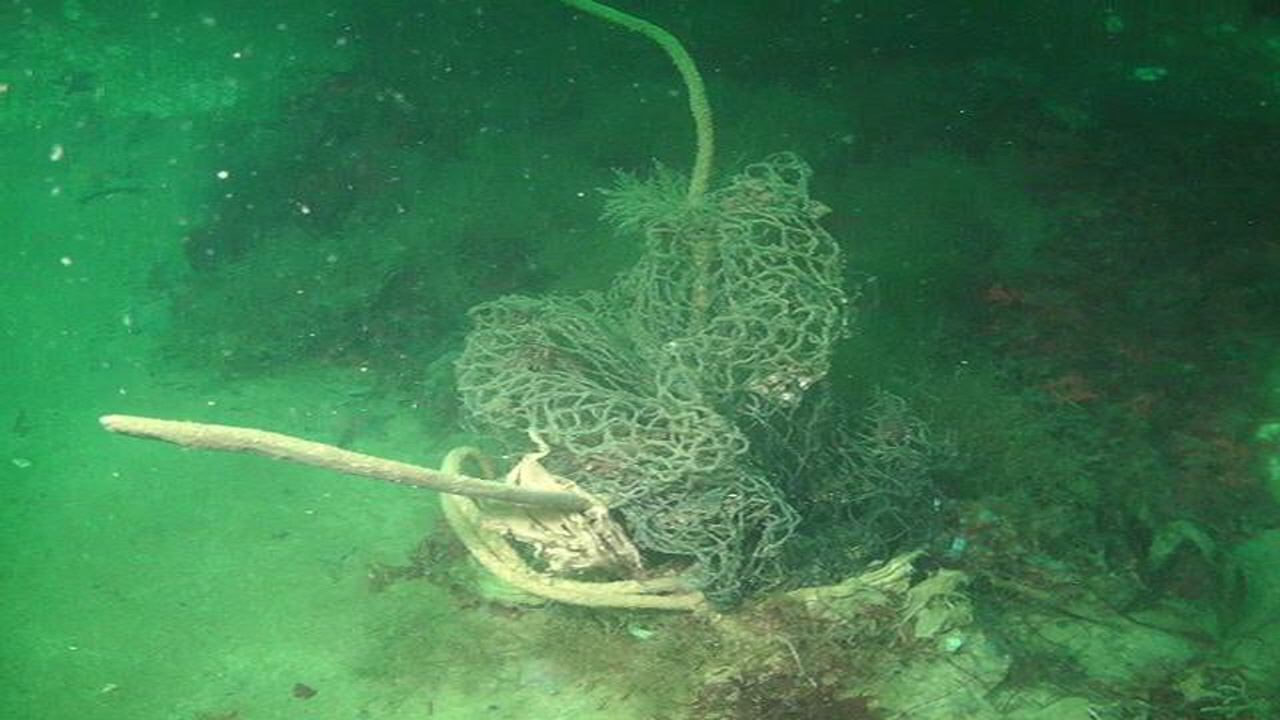bundle of ropes: (438, 443, 705, 607)
fish net: (450, 150, 938, 606)
